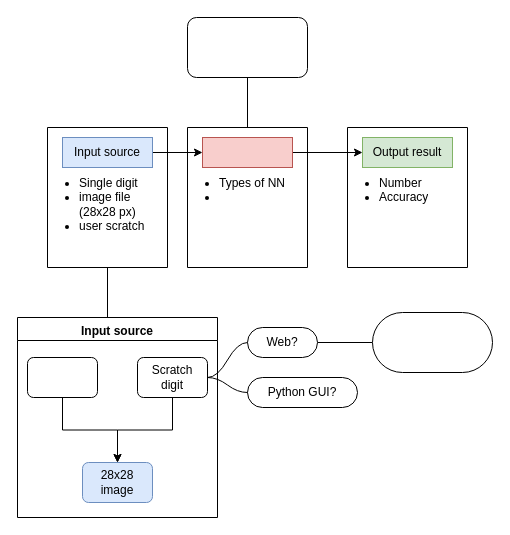
Some shapes in this 510 by 535 pixel diagram are drawn without their labels. The centre of each missing label's shape, as x and y in pixels:
drawing frontend library: point (432, 342)
Import image: point (62, 377)
Process data: point (247, 152)
